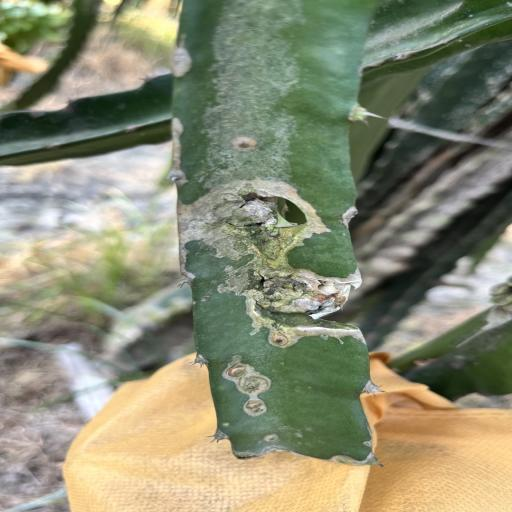stemcanker: (256, 426, 314, 451), (224, 133, 260, 153), (258, 430, 302, 446), (232, 137, 272, 154), (261, 335, 297, 352), (191, 294, 218, 314), (192, 294, 225, 308), (266, 334, 294, 348), (217, 421, 236, 434), (220, 421, 234, 429)
